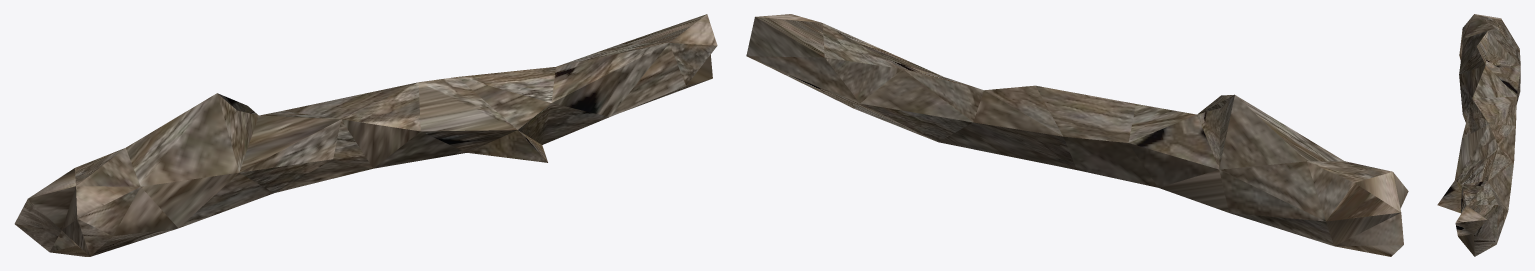
Rendered from co_fallen_log_lod2.glb.
The picture shows the model from 3 angles, left to right: view 1: azimuth 30°, elevation 25°; view 2: azimuth 150°, elevation 25°; view 3: azimuth 270°, elevation 25°; orthographic projection. The views are drawn at different scales.
Visible parts, largest first — view 1: output_unwrapped; view 2: output_unwrapped; view 3: output_unwrapped.
Boxes of the visible parts, x1,y1,x2,y2 form: output_unwrapped: [14, 14, 717, 256]; output_unwrapped: [746, 14, 1408, 256]; output_unwrapped: [1437, 14, 1520, 256].
Bounding box in the file's own units: 1.82 × 0.3283 × 0.2862.
1 material, 1 textured.
